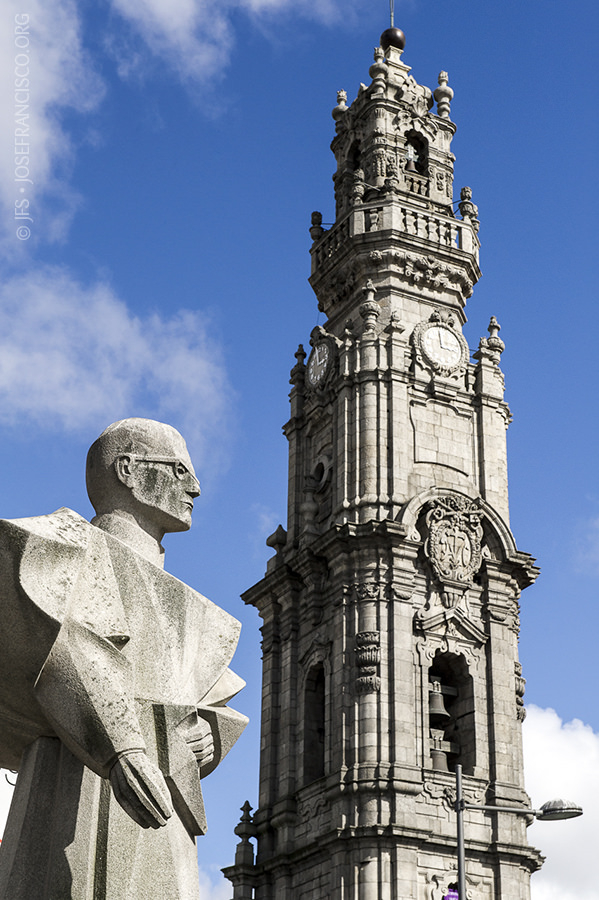clerigos: (222, 0, 546, 899)
